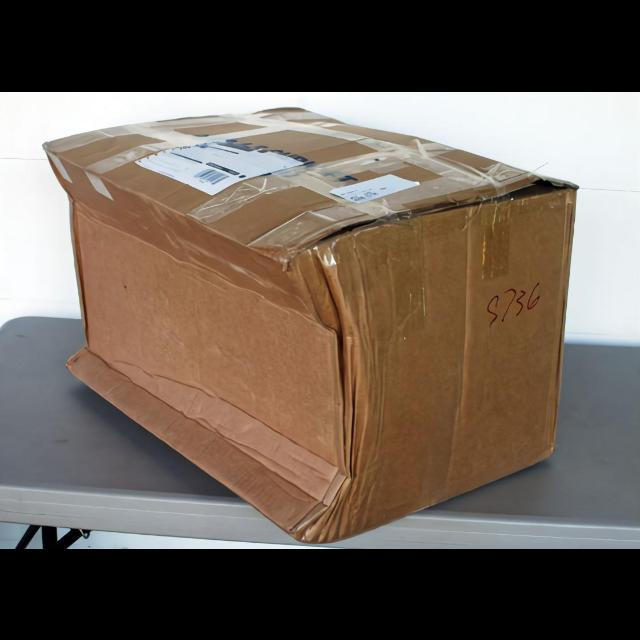papelão: (41, 105, 578, 545)
